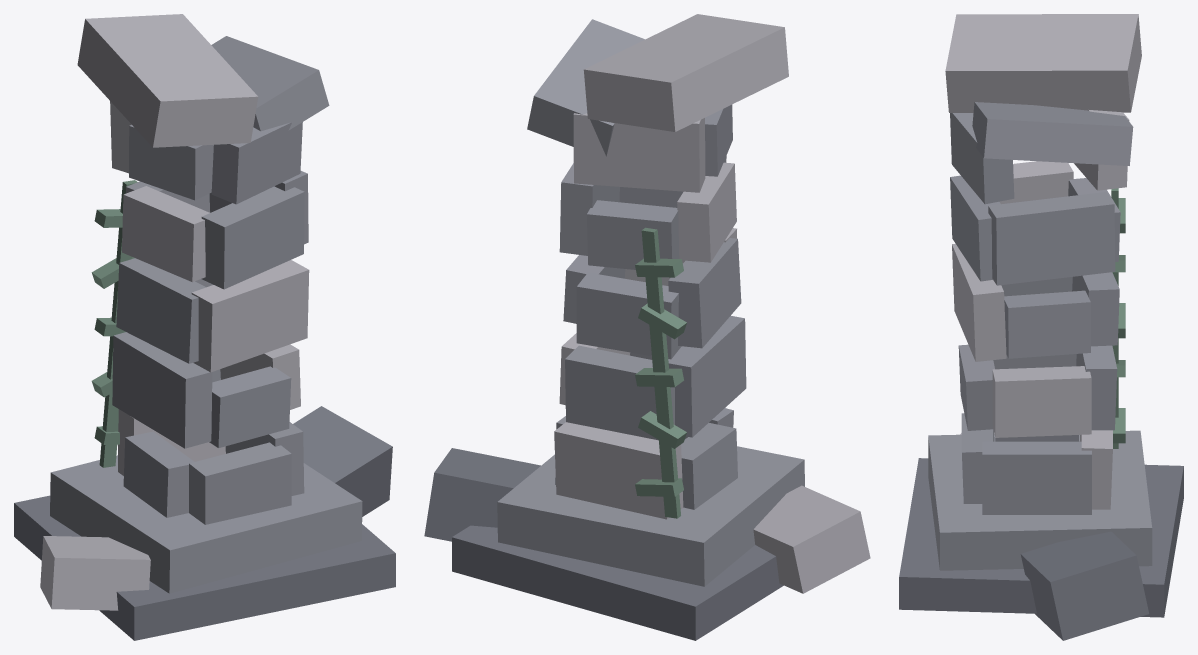
Rendered from ruined_pillar.glb.
3 views of the same model, side by side, from view 1: azimuth 30°, elevation 25°; view 2: azimuth 150°, elevation 25°; view 3: azimuth 270°, elevation 25° (orthographic). The views are drawn at different scales.
Visible parts, largest first — view 1: Moonpost Ruined Gothic Pillar; view 2: Moonpost Ruined Gothic Pillar; view 3: Moonpost Ruined Gothic Pillar.
Boxes of the visible parts, x1,y1,x2,y2 form: Moonpost Ruined Gothic Pillar: (14, 14, 395, 640); Moonpost Ruined Gothic Pillar: (424, 14, 870, 640); Moonpost Ruined Gothic Pillar: (899, 14, 1183, 640).
Size of the model in its own units: 5.29 by 7.01 by 3.54.
